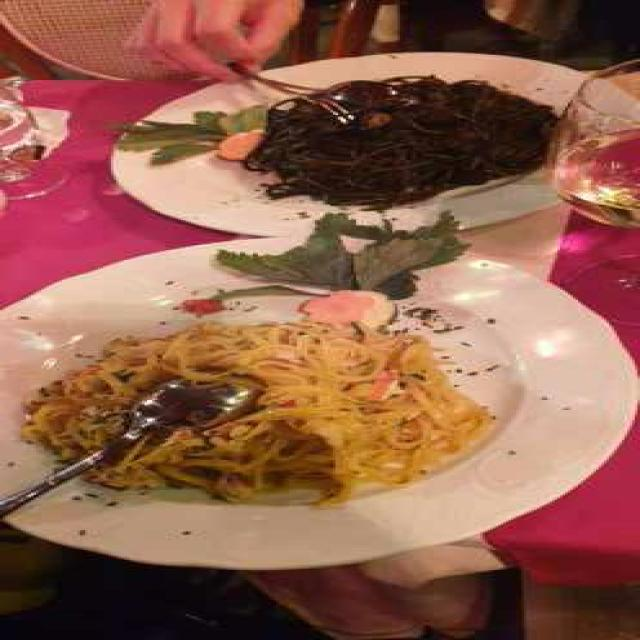Cup: (549, 55, 640, 245), (0, 65, 66, 208)
Plate: (0, 235, 637, 570), (106, 50, 622, 238)
